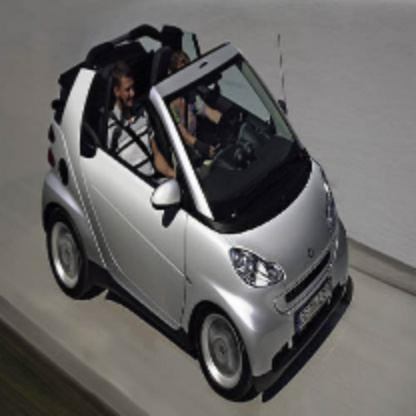Vehicle: (42, 24, 348, 404)
